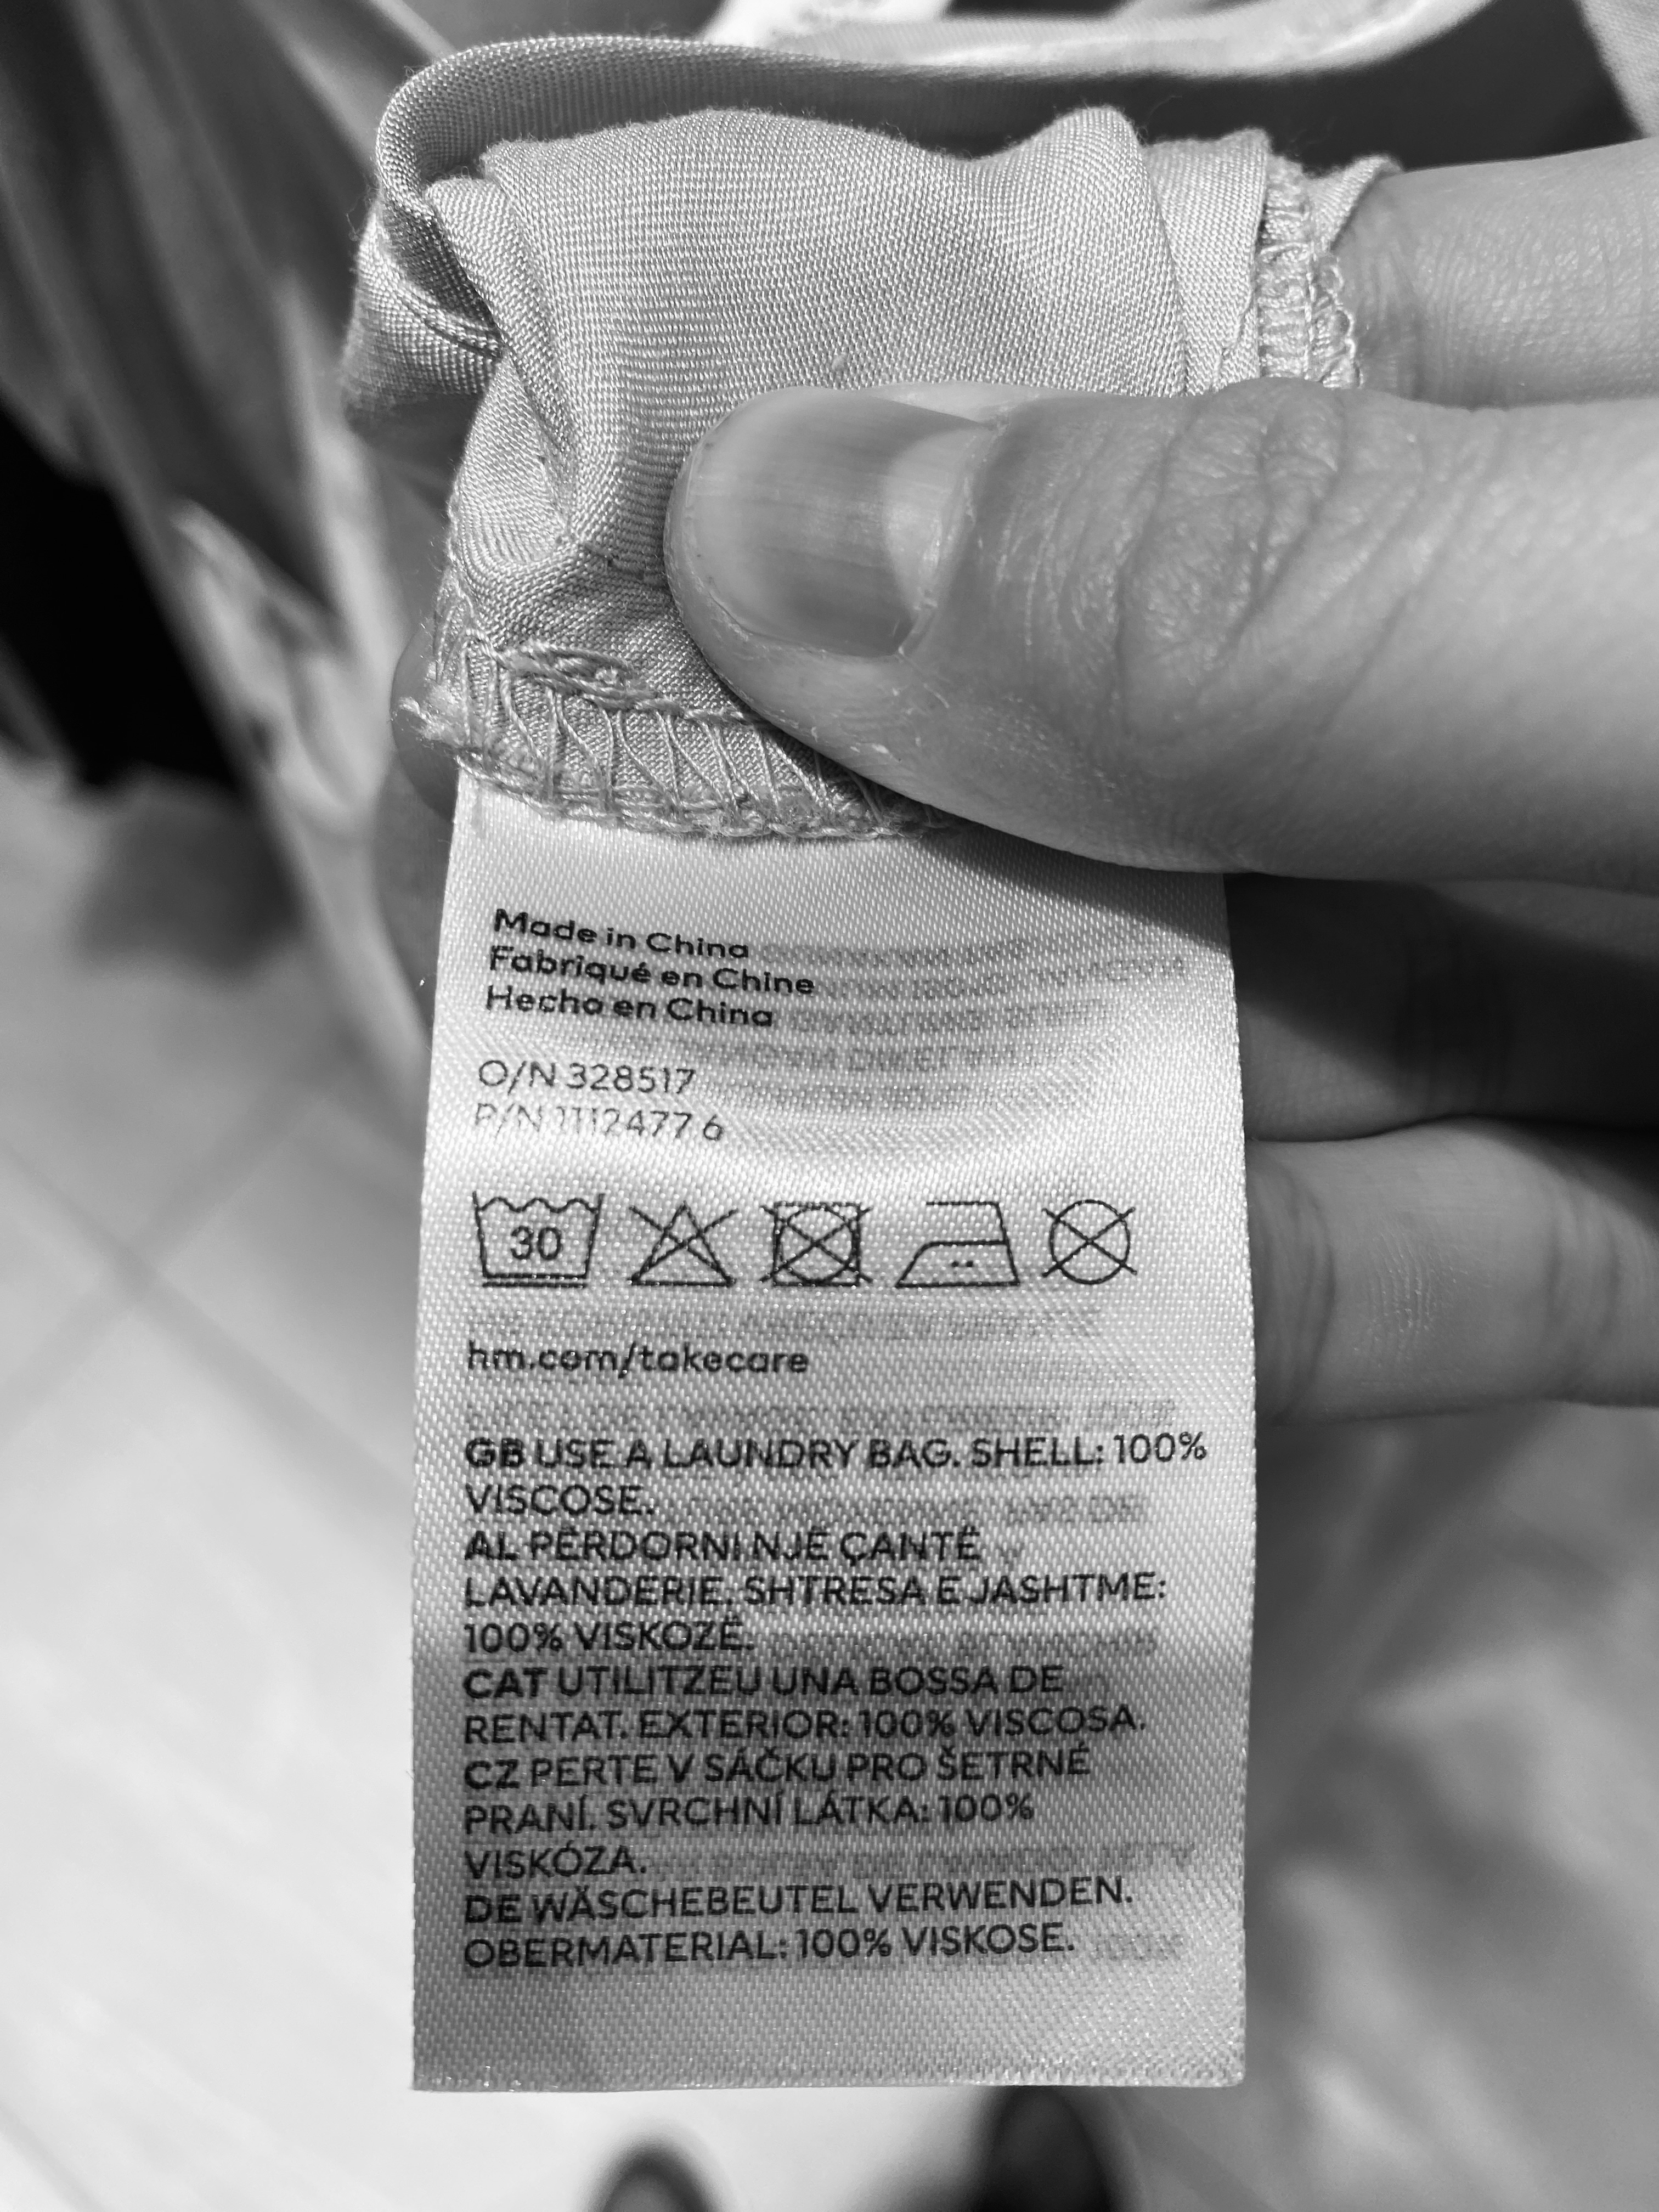tag: (404, 745, 1269, 2104)
